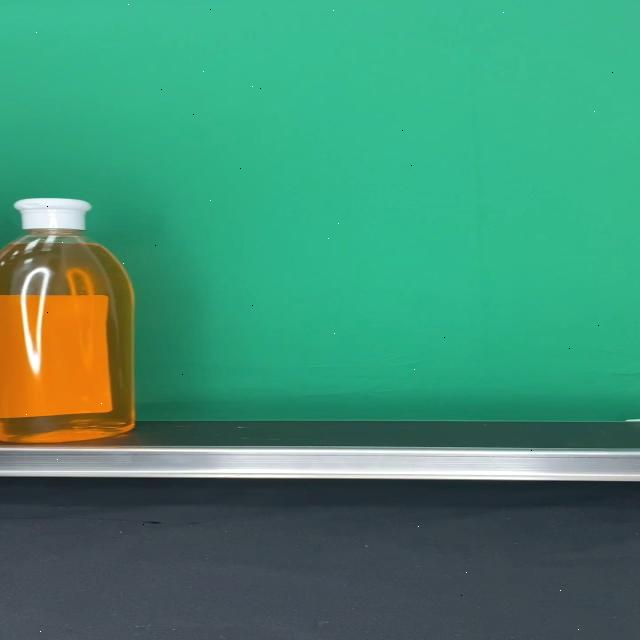Bottle: (0, 198, 137, 444)
Cap: (13, 198, 92, 230)
